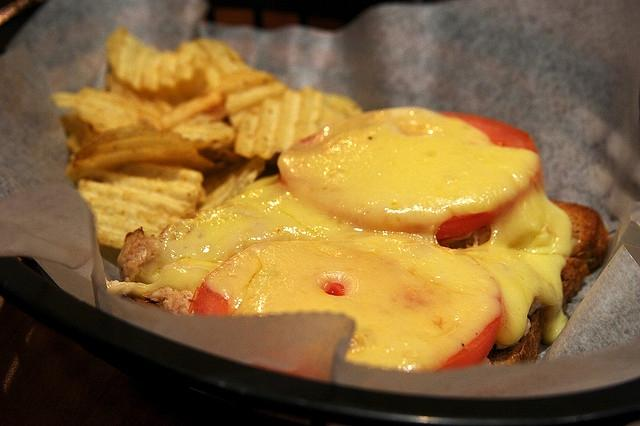tomato: (277, 108, 542, 238), (188, 280, 502, 370)
